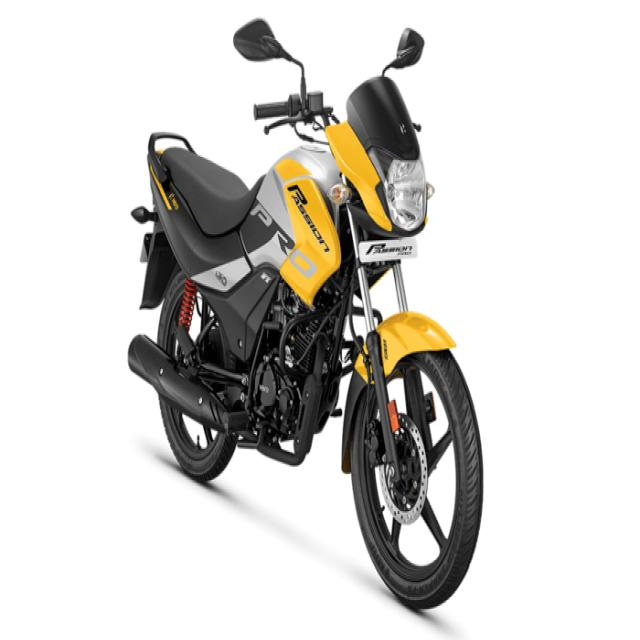bike: (128, 16, 484, 611)
